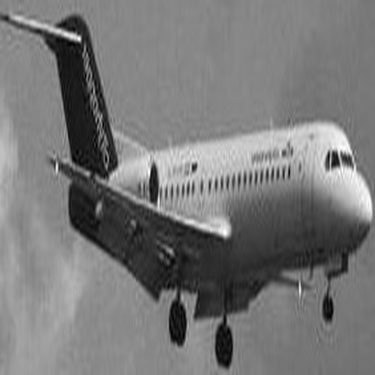airplane: (15, 1, 371, 347)
